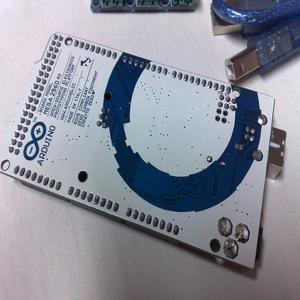duino: (0, 30, 281, 273)
